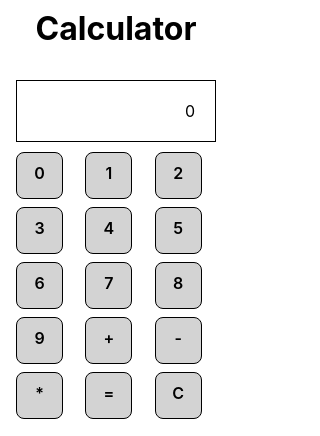
Calculator › performs addition operation
Click the button "1" at (109,175), box [85,152,132,199]
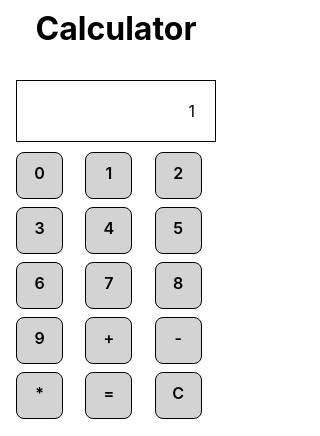
Click the button "+" at (109,340), box [85,317,132,364]
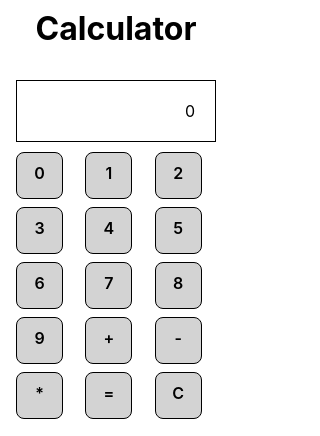
Click the button "2" at (178,175), box [155,152,202,199]
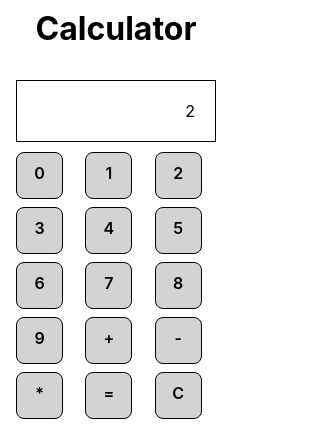
Click the button "=" at (109,395), box [85,372,132,419]
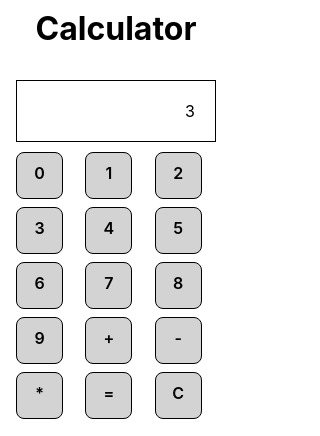
Now the text with test id "display" reads "3", box [185,101,195,121]
